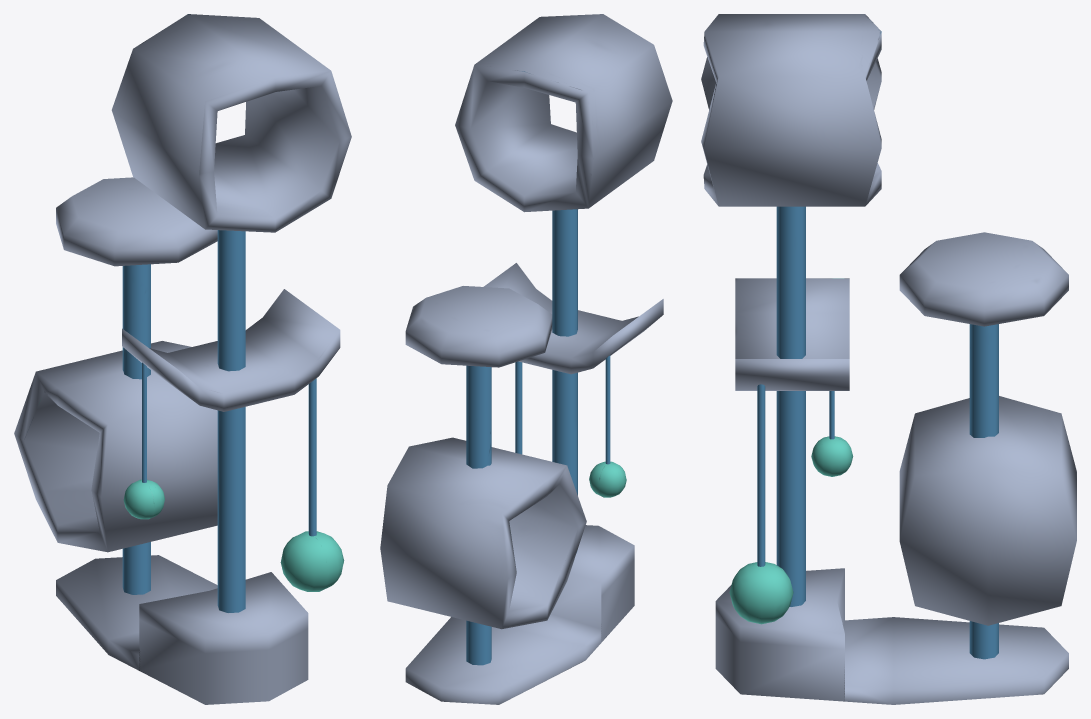
File: CatTower_MOD.fbx
The picture shows the model from 3 angles, left to right: view 1: azimuth 30°, elevation 25°; view 2: azimuth 150°, elevation 25°; view 3: azimuth 270°, elevation 25°; orthographic projection. The views are drawn at different scales.
Parts seen in each view (by area): view 1: CatTower; view 2: CatTower; view 3: CatTower.
Boxes of the visible parts, left/top/right/bottom form: CatTower: left=14, top=14, right=351, bottom=704; CatTower: left=380, top=14, right=672, bottom=704; CatTower: left=701, top=14, right=1076, bottom=704.
Bounding box in the file's own units: 54.61 × 183 × 97.68.
